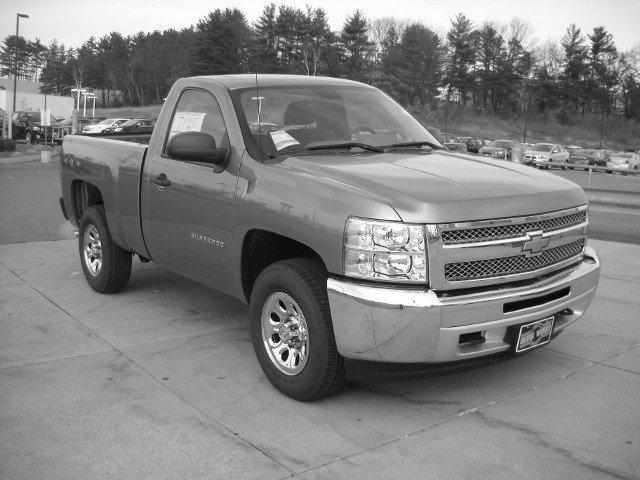car: (56, 68, 605, 407)
